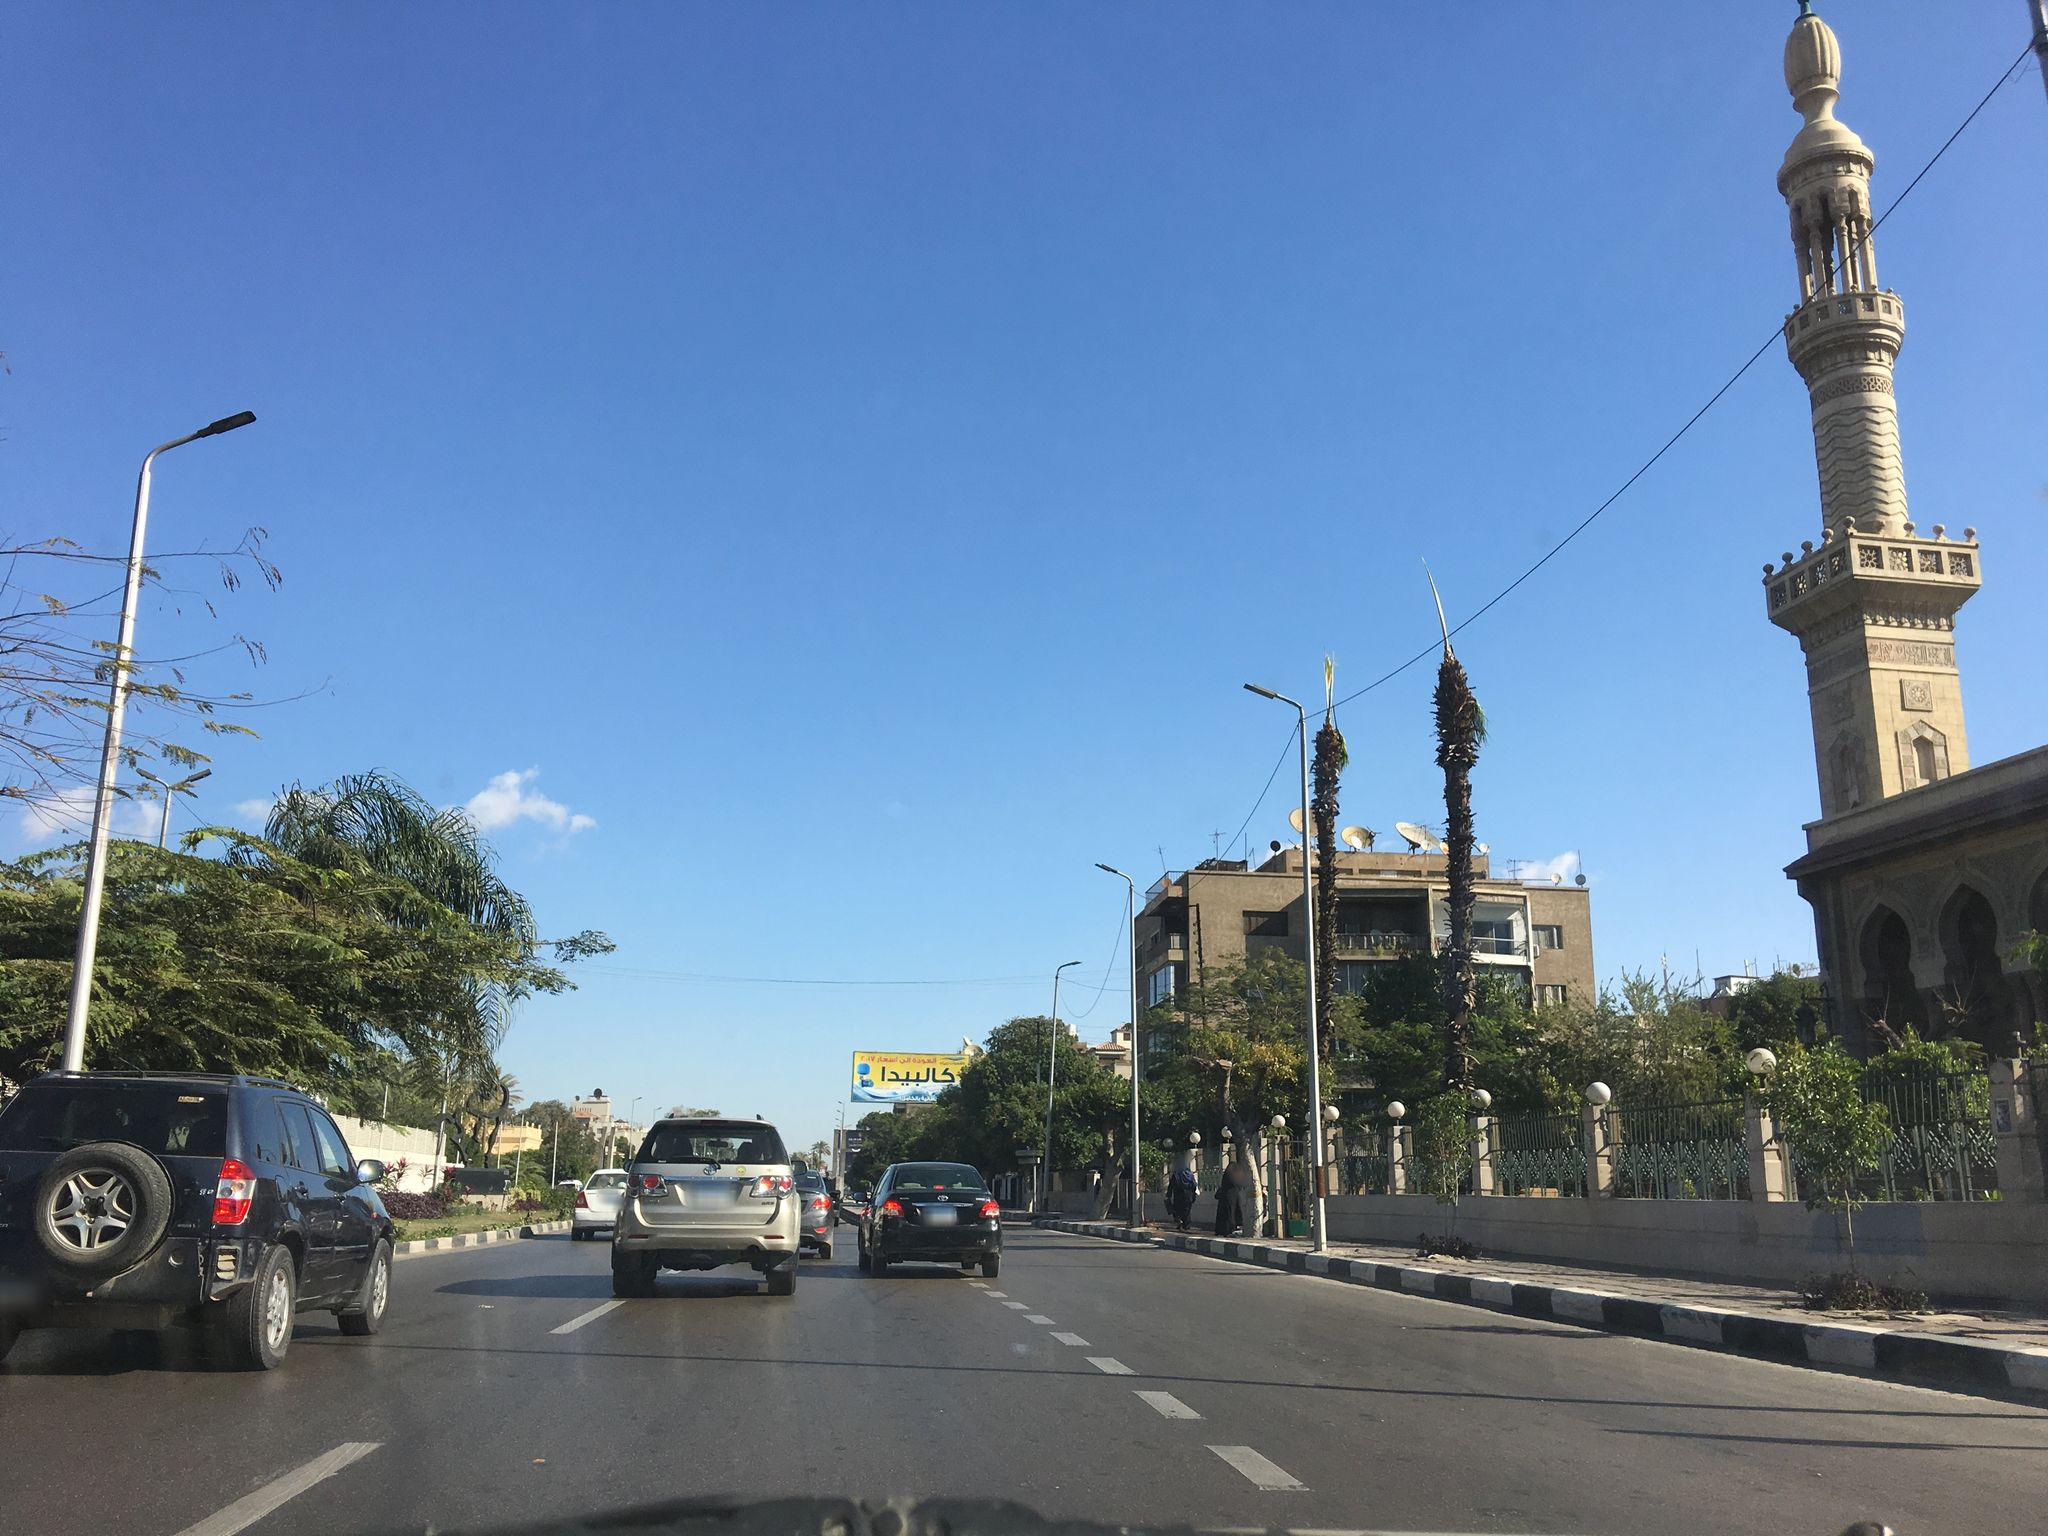car: (0, 1063, 398, 1375), (608, 1113, 810, 1294), (851, 1160, 1003, 1278), (569, 1168, 629, 1241), (790, 1167, 834, 1263)
